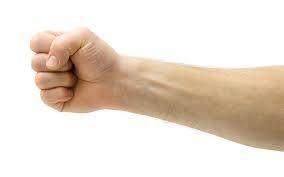Left-Fist: (31, 25, 143, 115)
